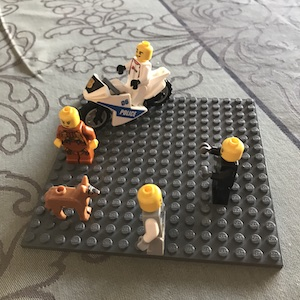Lego: (199, 133, 249, 203), (113, 38, 156, 113), (132, 180, 169, 258), (53, 105, 100, 164)
